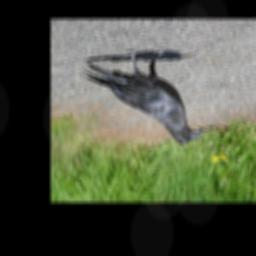Crow: (78, 46, 205, 145)
